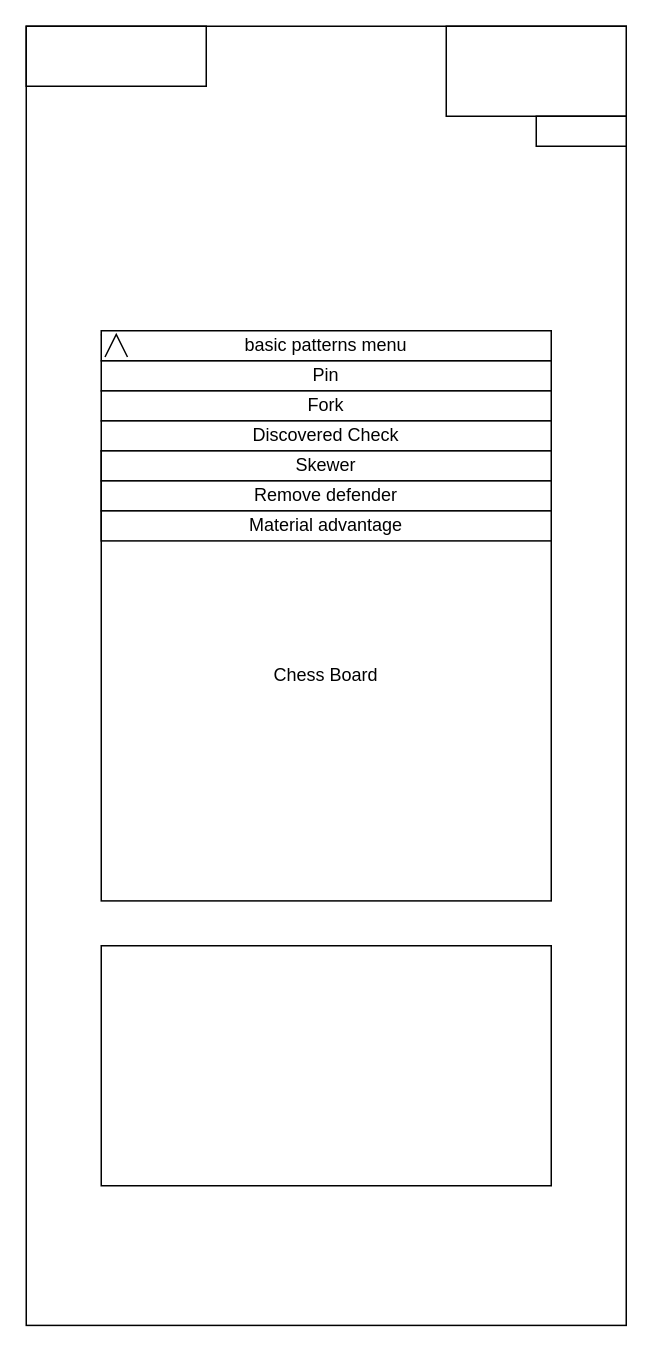
Image size: 653x1353. Some labels were removed from this diagram. The shapes that lost their labels are listed below. From the top down, each one's centre as x and y in pixels, then its label:
At point (115, 55): "Basic Patterns".
At point (535, 70): "Logo".
At point (580, 130): "Menu".
At point (325, 1065): "Text about Basic Patterns".
